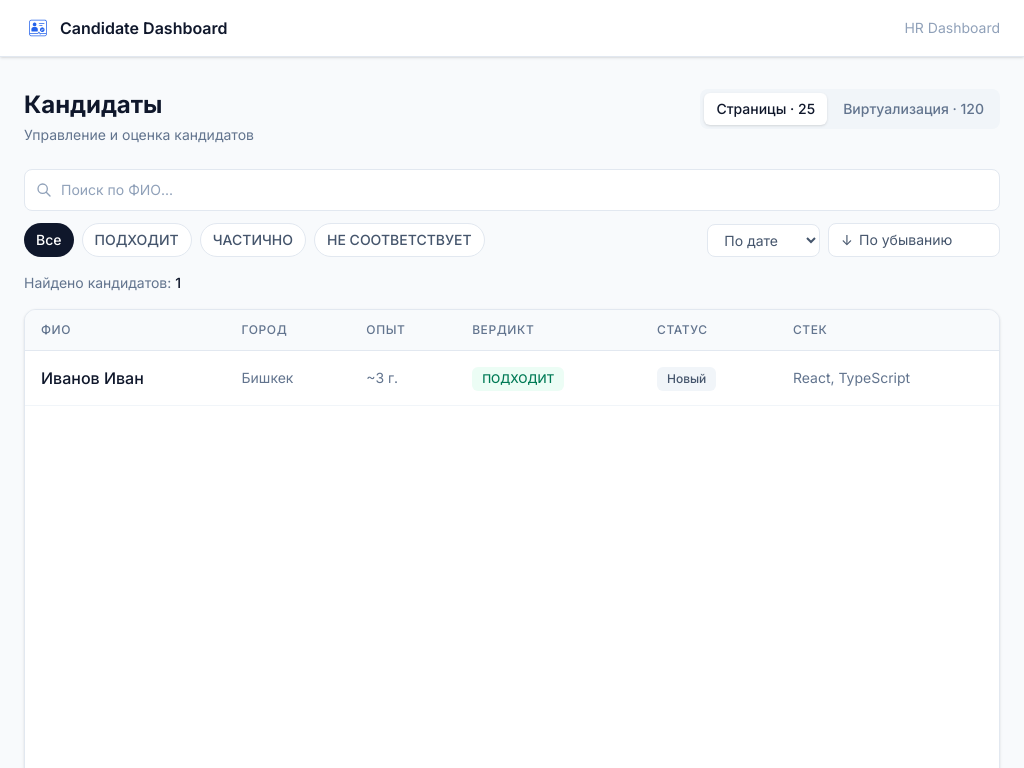
Test case: Навигация список → детальная › открывает детальную страницу по клику на строку
The width and height of the screenshot is (1024, 768).
Click the text "Иванов Иван" at (92, 378), box [41, 368, 144, 388]
(page scrolled)
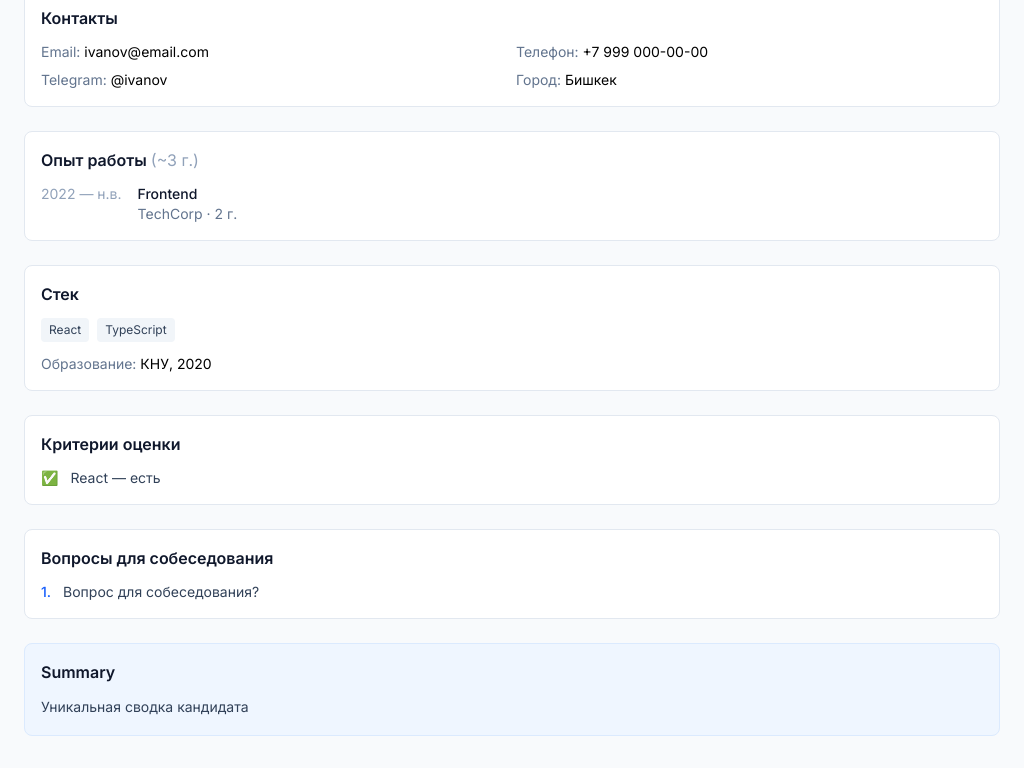
Expected: the text "Уникальная сводка кандидата" is shown, [41, 698, 248, 715]
